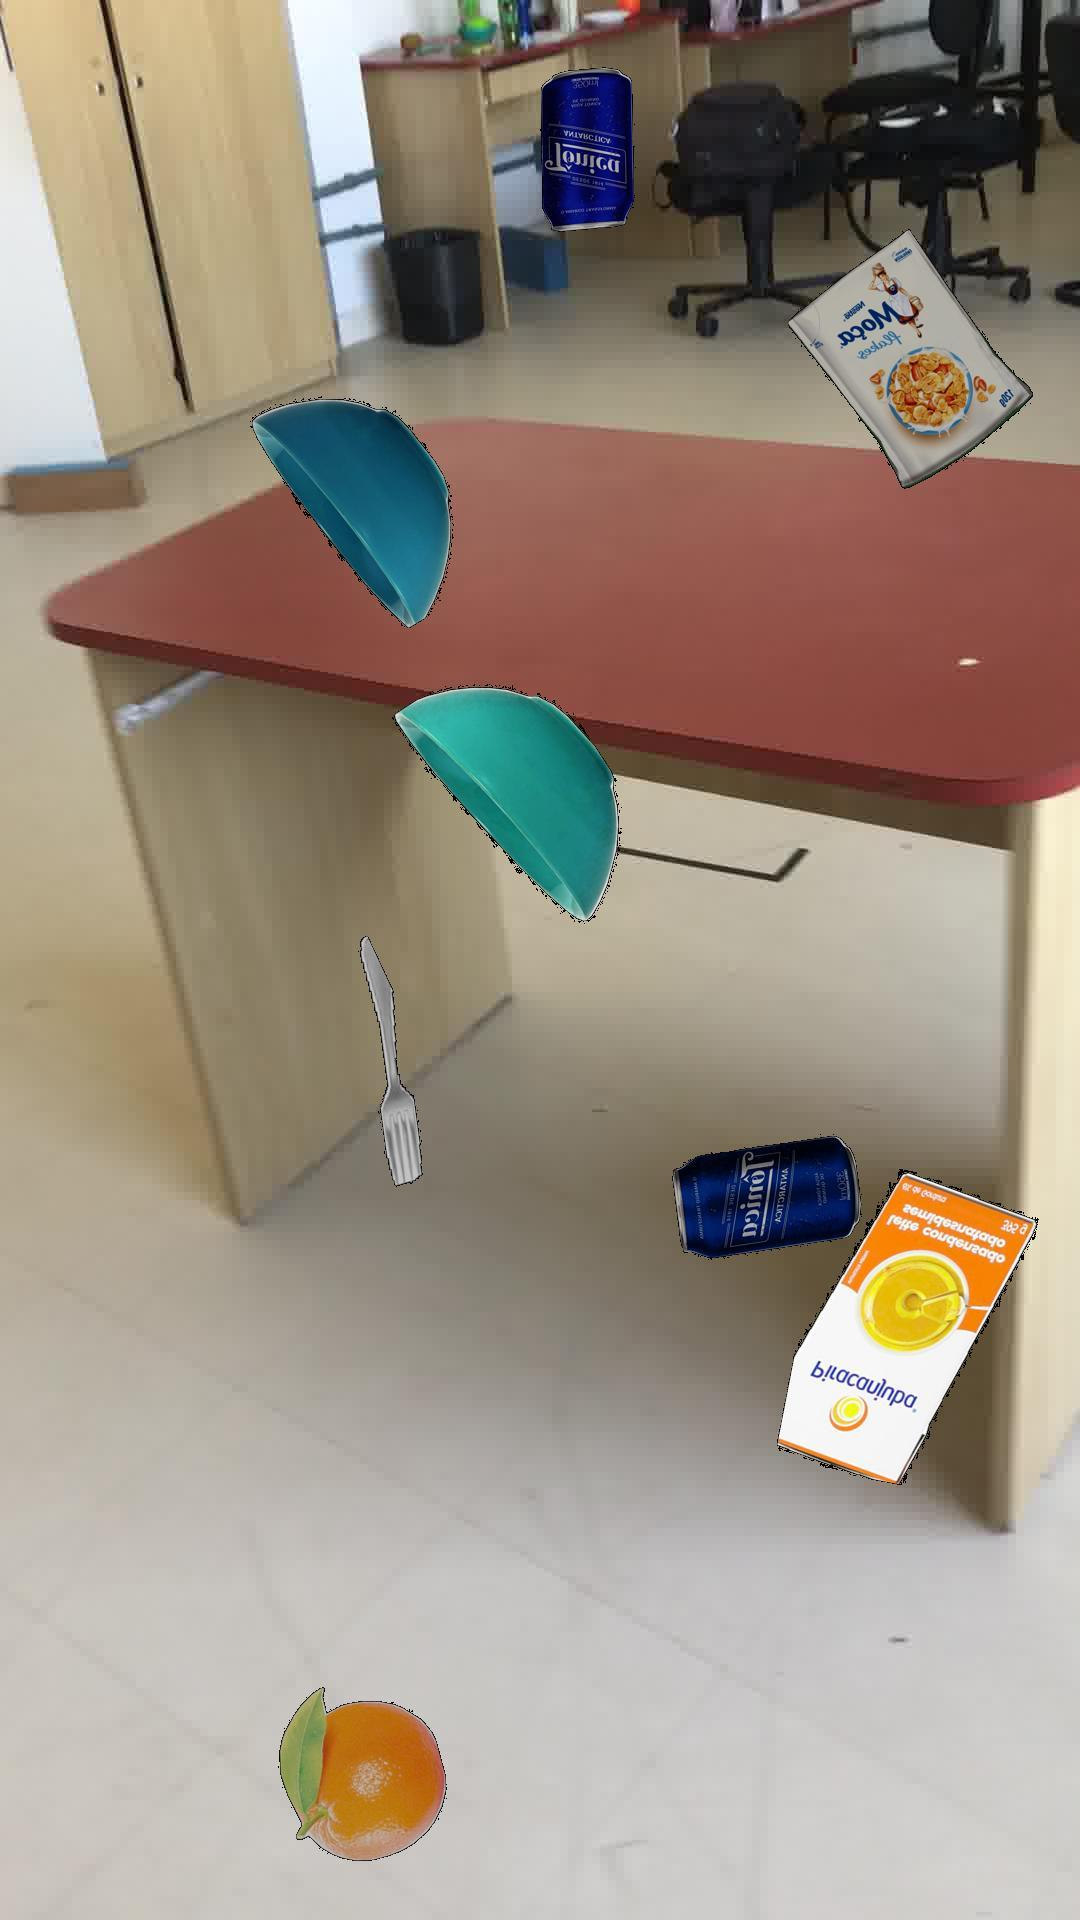bowl: (393, 684, 621, 920), (248, 397, 451, 626)
corn flakes: (786, 228, 1031, 488)
fork: (359, 935, 422, 1185)
orange: (277, 1685, 446, 1859)
tonic: (670, 1134, 861, 1258), (538, 66, 633, 231)
